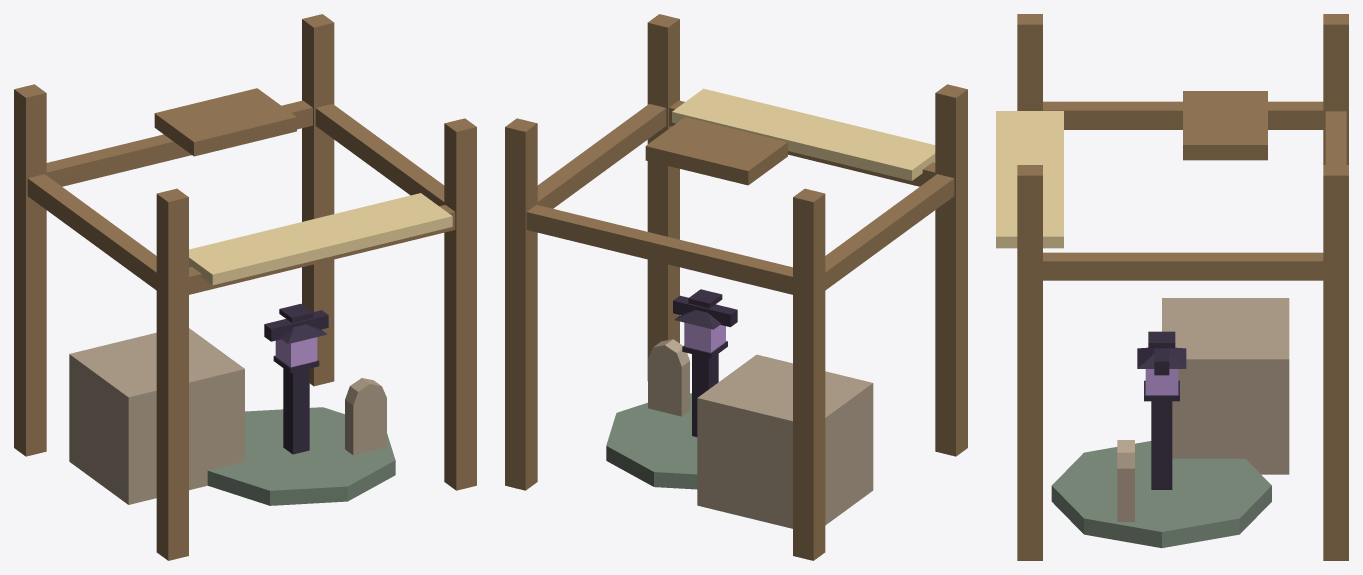
Rendered from graveyard-scaffold.glb.
The picture shows the model from 3 angles, left to right: view 1: azimuth 30°, elevation 25°; view 2: azimuth 150°, elevation 25°; view 3: azimuth 270°, elevation 25°; orthographic projection. The views are drawn at different scales.
Parts seen in each view (by area): view 1: graveyard-scaffold; view 2: graveyard-scaffold; view 3: graveyard-scaffold.
Boxes of the visible parts, bbox=[...] form: graveyard-scaffold: bbox=[14, 14, 476, 560]; graveyard-scaffold: bbox=[505, 14, 967, 560]; graveyard-scaffold: bbox=[996, 14, 1348, 560].
Bounding box in the file's own units: 0.9 × 1 × 0.83.
